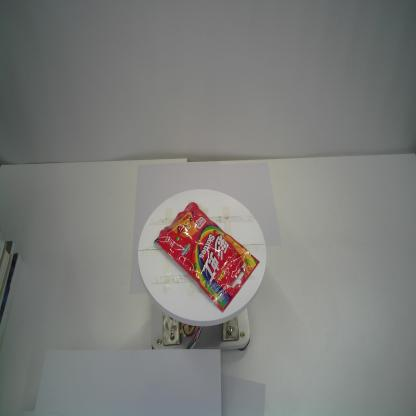Candy: (154, 200, 261, 312)
